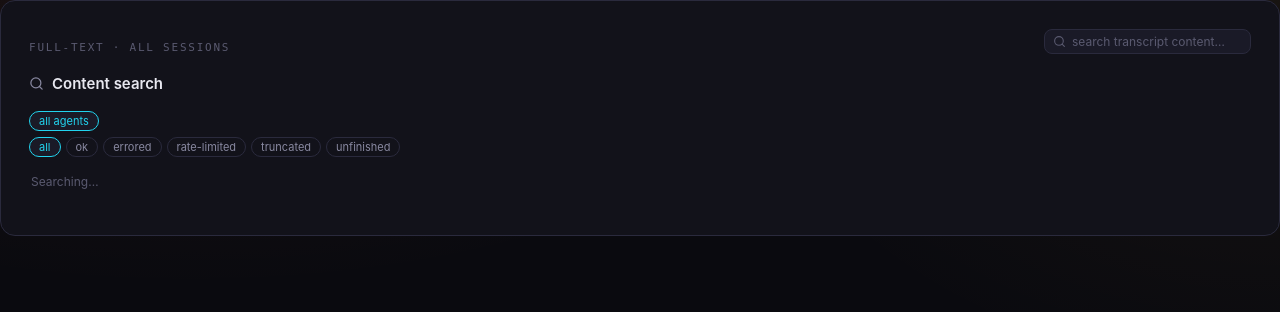
Scenario: ContentSearchPanel › typing a query renders matching sessions and highlights matches as <mark>
The width and height of the screenshot is (1280, 312).
Type "zebrafish" into the search field labelled "search transcript content…" at (1157, 42), box [1072,34,1242,49]
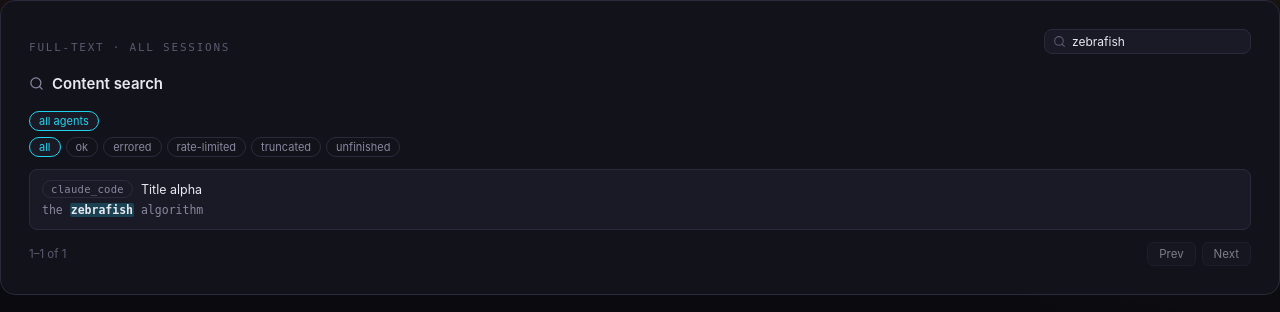
Now the text "Title alpha" is shown, box [141,182,202,196]
